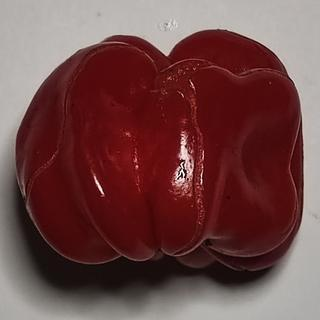striped: (20, 37, 143, 214), (171, 80, 211, 236), (193, 62, 302, 90)
